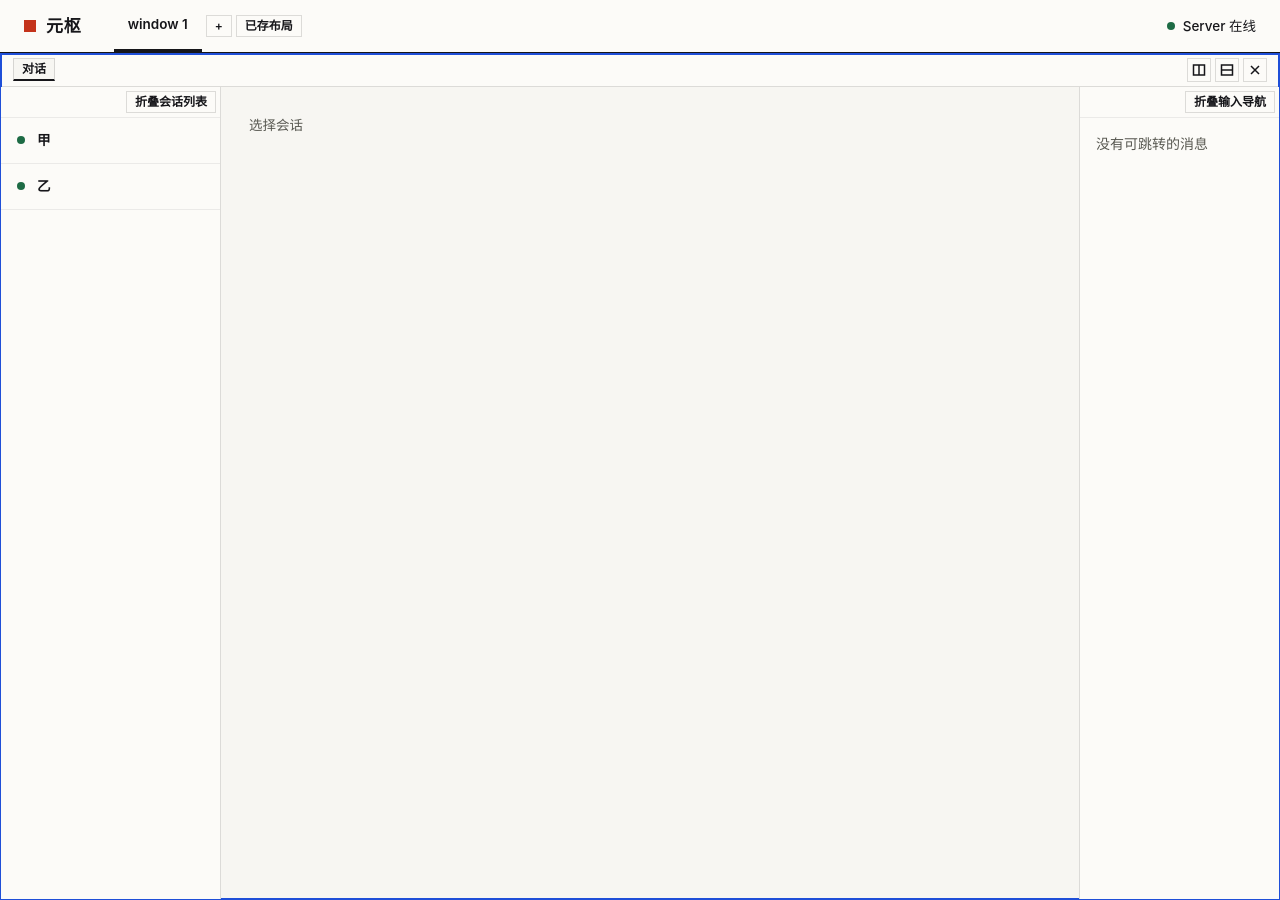
R6 分割后焦点落在新 pane 内
Click the button named "向右分割" at x=1199, y=70, box [1187, 58, 1211, 82]
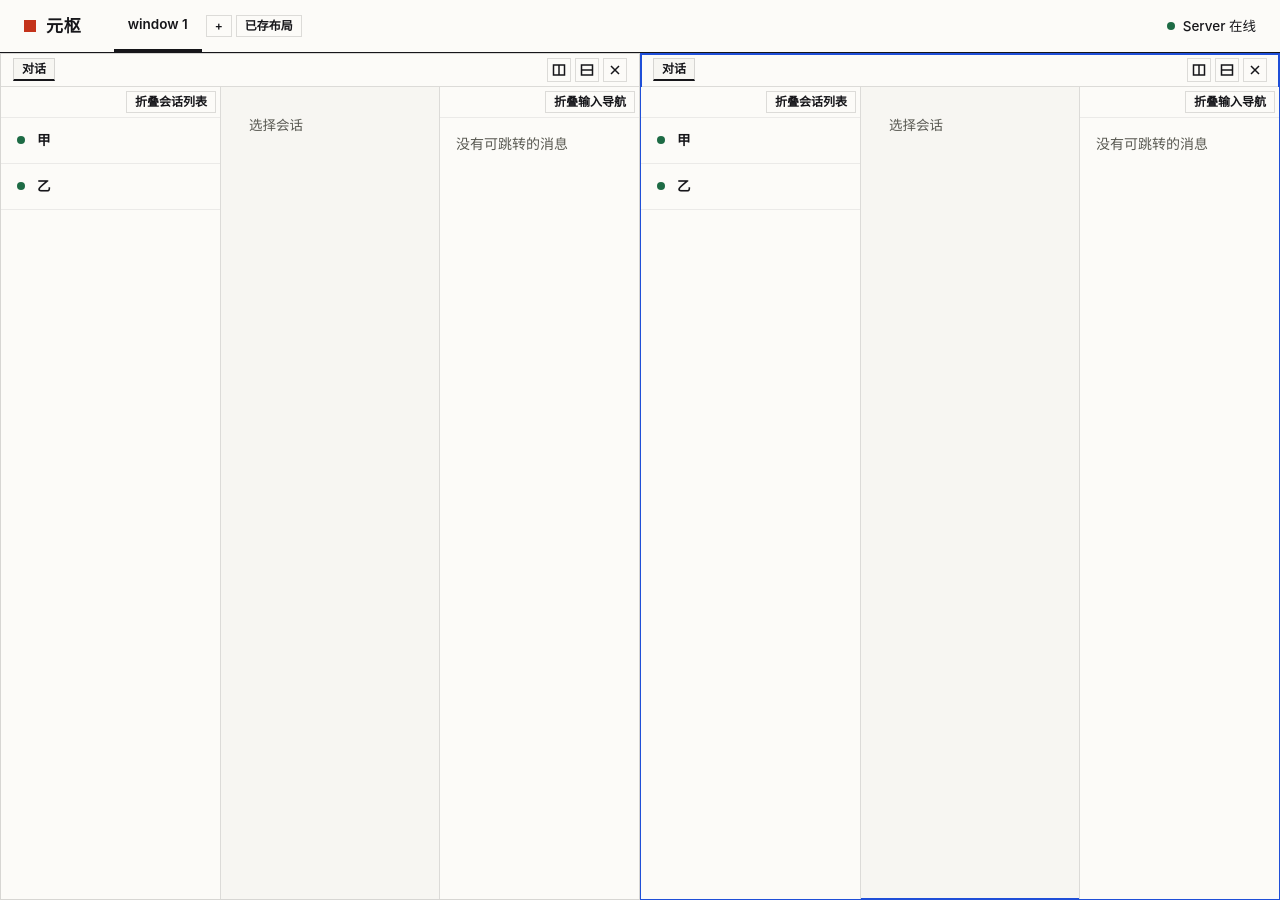
Check: the element showing "对话 折叠会话列表 甲 乙 选择会话 折叠输入导航 没有可跳转的消息" is shown, box [640, 53, 1279, 899]
